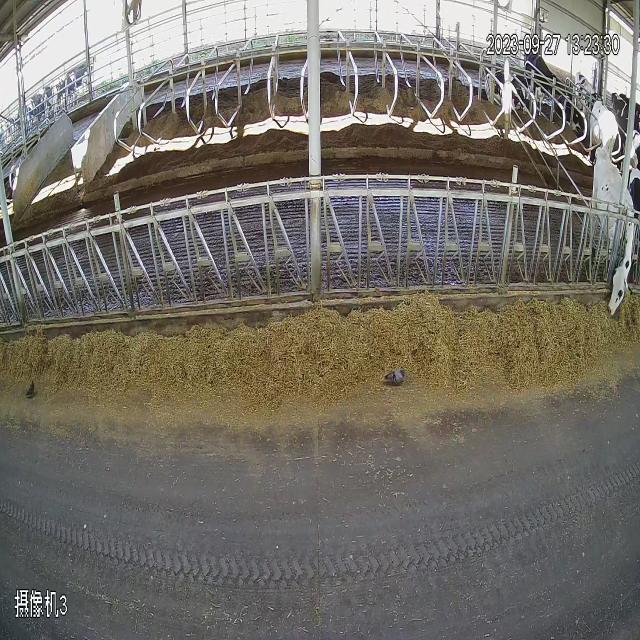feeding: (583, 125, 640, 328)
lying down: (479, 46, 594, 140)
standing: (1, 54, 115, 127), (592, 98, 620, 167)
